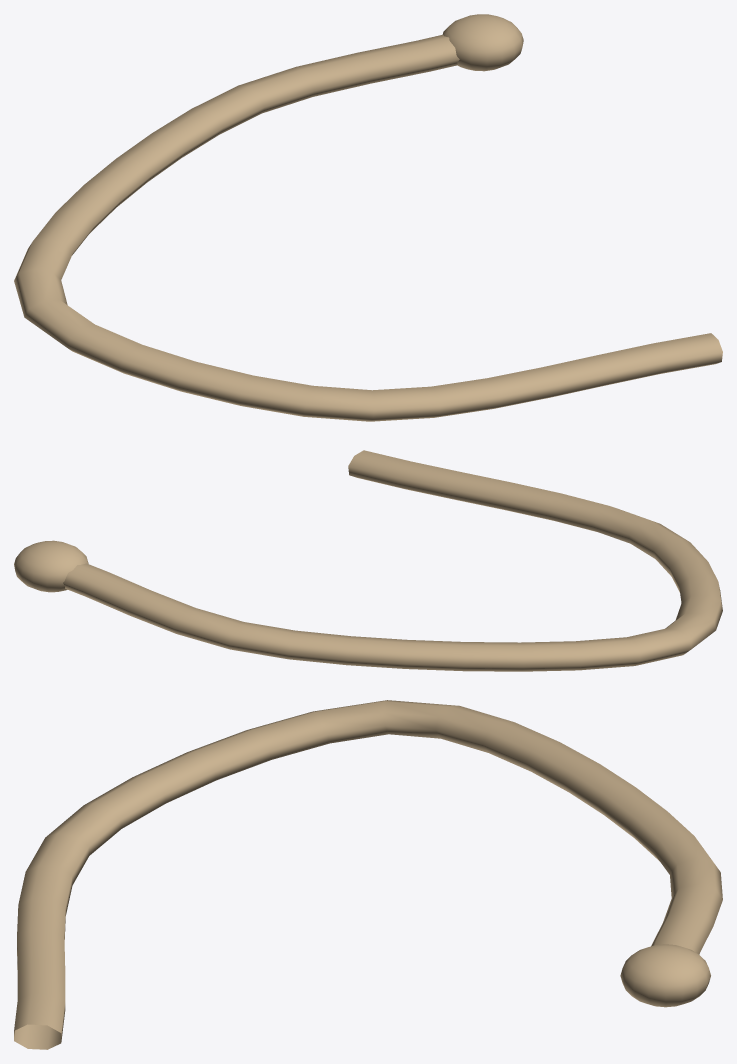
Rendered from right_rib_9.glb.
3 renders of one model, top to bottom at view 1: azimuth 30°, elevation 25°; view 2: azimuth 150°, elevation 25°; view 3: azimuth 270°, elevation 25°, orthographic. The views are drawn at different scales.
Visible parts, largest first — view 1: right_rib_9:costal-body, right_rib_9:head; view 2: right_rib_9:costal-body, right_rib_9:head; view 3: right_rib_9:costal-body, right_rib_9:head.
Boxes of the visible parts, x1,y1,x2,y2 form: right_rib_9:costal-body: [14, 34, 722, 421]; right_rib_9:head: [442, 14, 523, 71]; right_rib_9:costal-body: [63, 450, 722, 671]; right_rib_9:head: [14, 540, 88, 592]; right_rib_9:costal-body: [14, 700, 722, 1049]; right_rib_9:head: [620, 944, 710, 1007].
Bounding box in the file's own units: 0.4281 × 0.0774 × 0.387.
